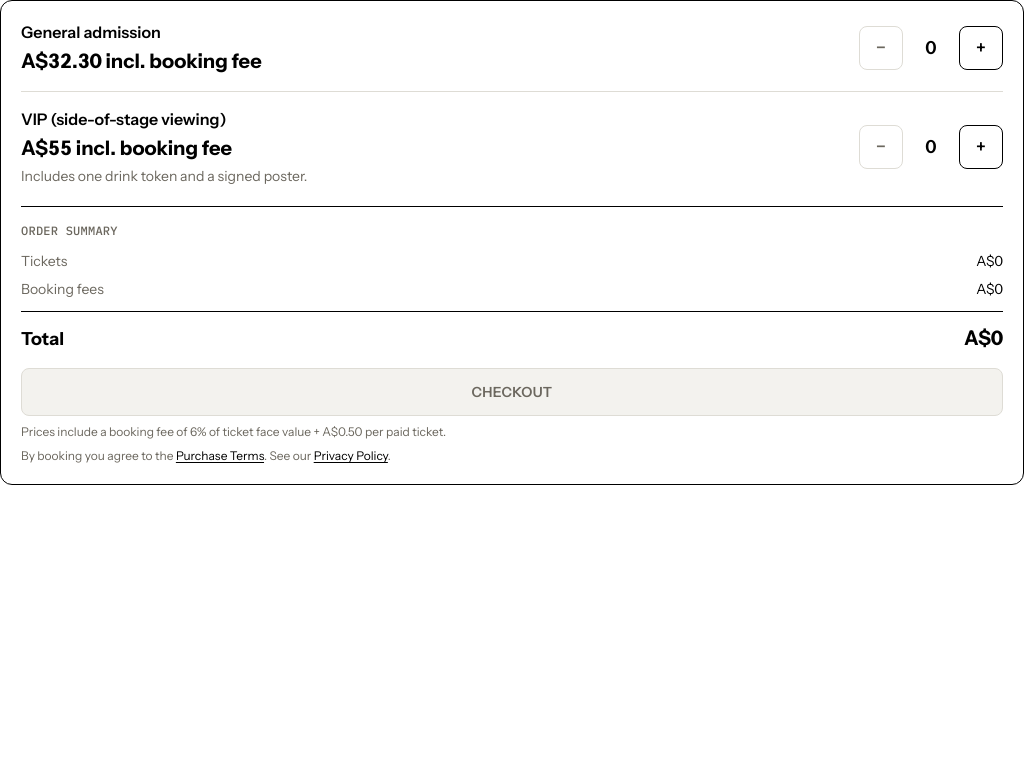
Support Sheltüh in the ticket selector (general admission) › one tap adds A$5: its own summary line, and the total goes up at once
Click the button named "Increase quantity for General admission".
click(981, 48)  # box [959,26,1003,70]
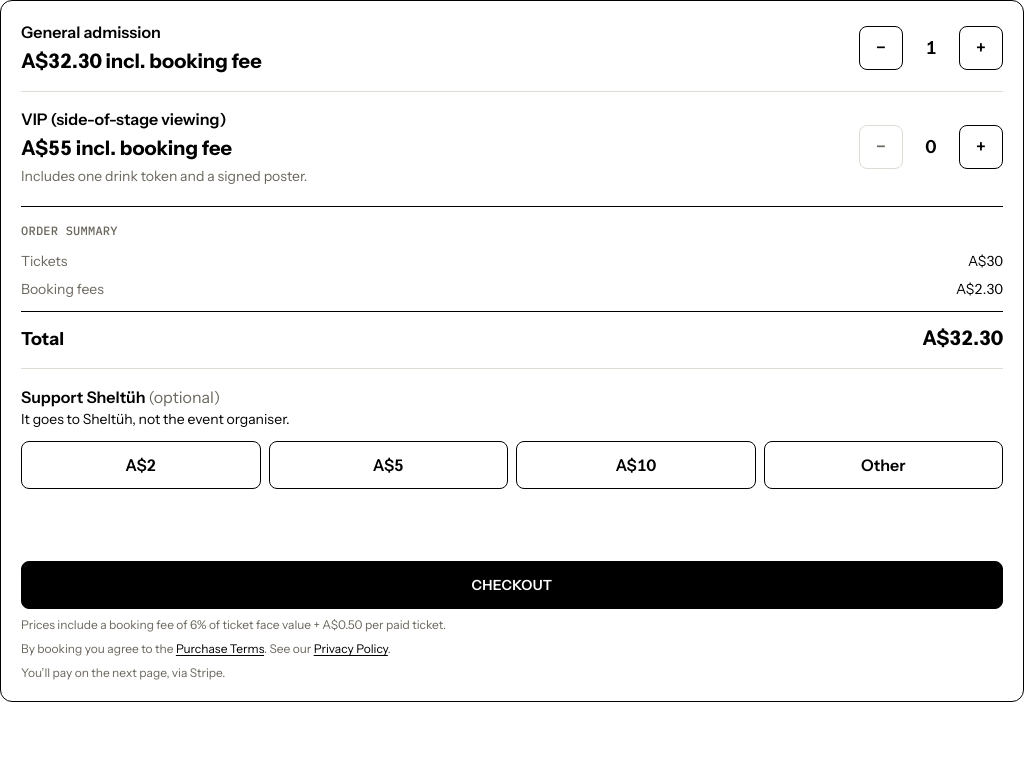
Now the text "A$32.30" is shown, box [922,324,1003,352]
Click the radio button labelled "A$5".
click(388, 465)  # box [268,441,508,489]
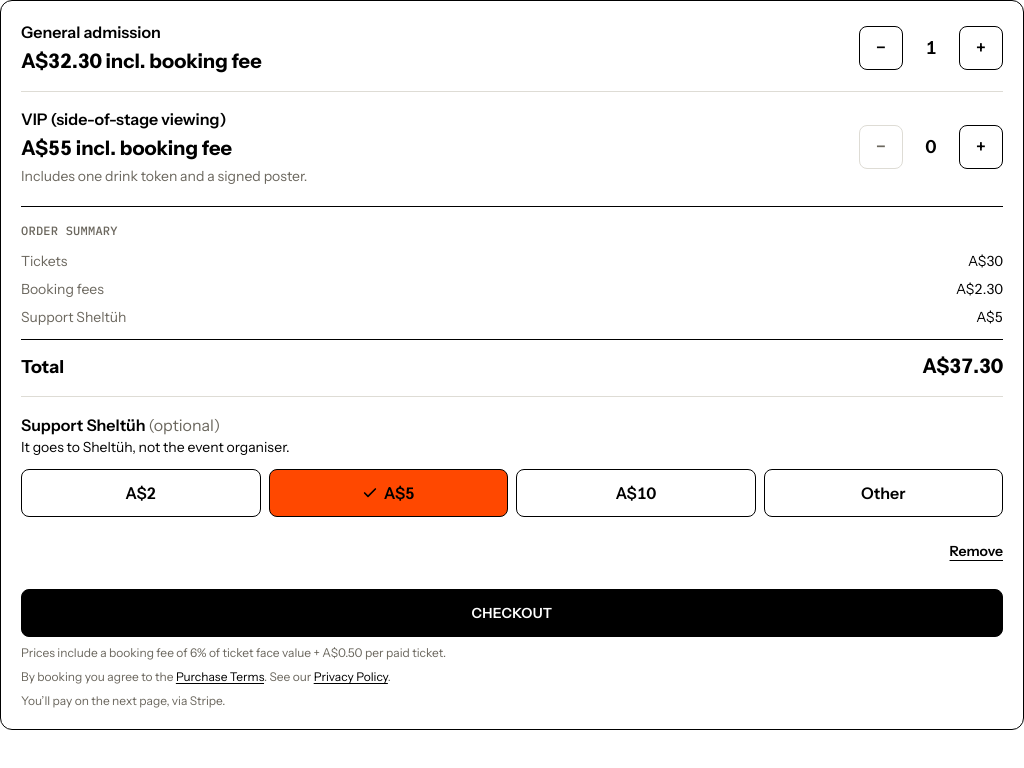
Now the radio button labelled "A$5" is checked, box [268,469,508,517]
Now the text "A$37.30" is shown, box [922,352,1003,380]
Now the text "A$5" is shown, box [976,307,1003,327]
